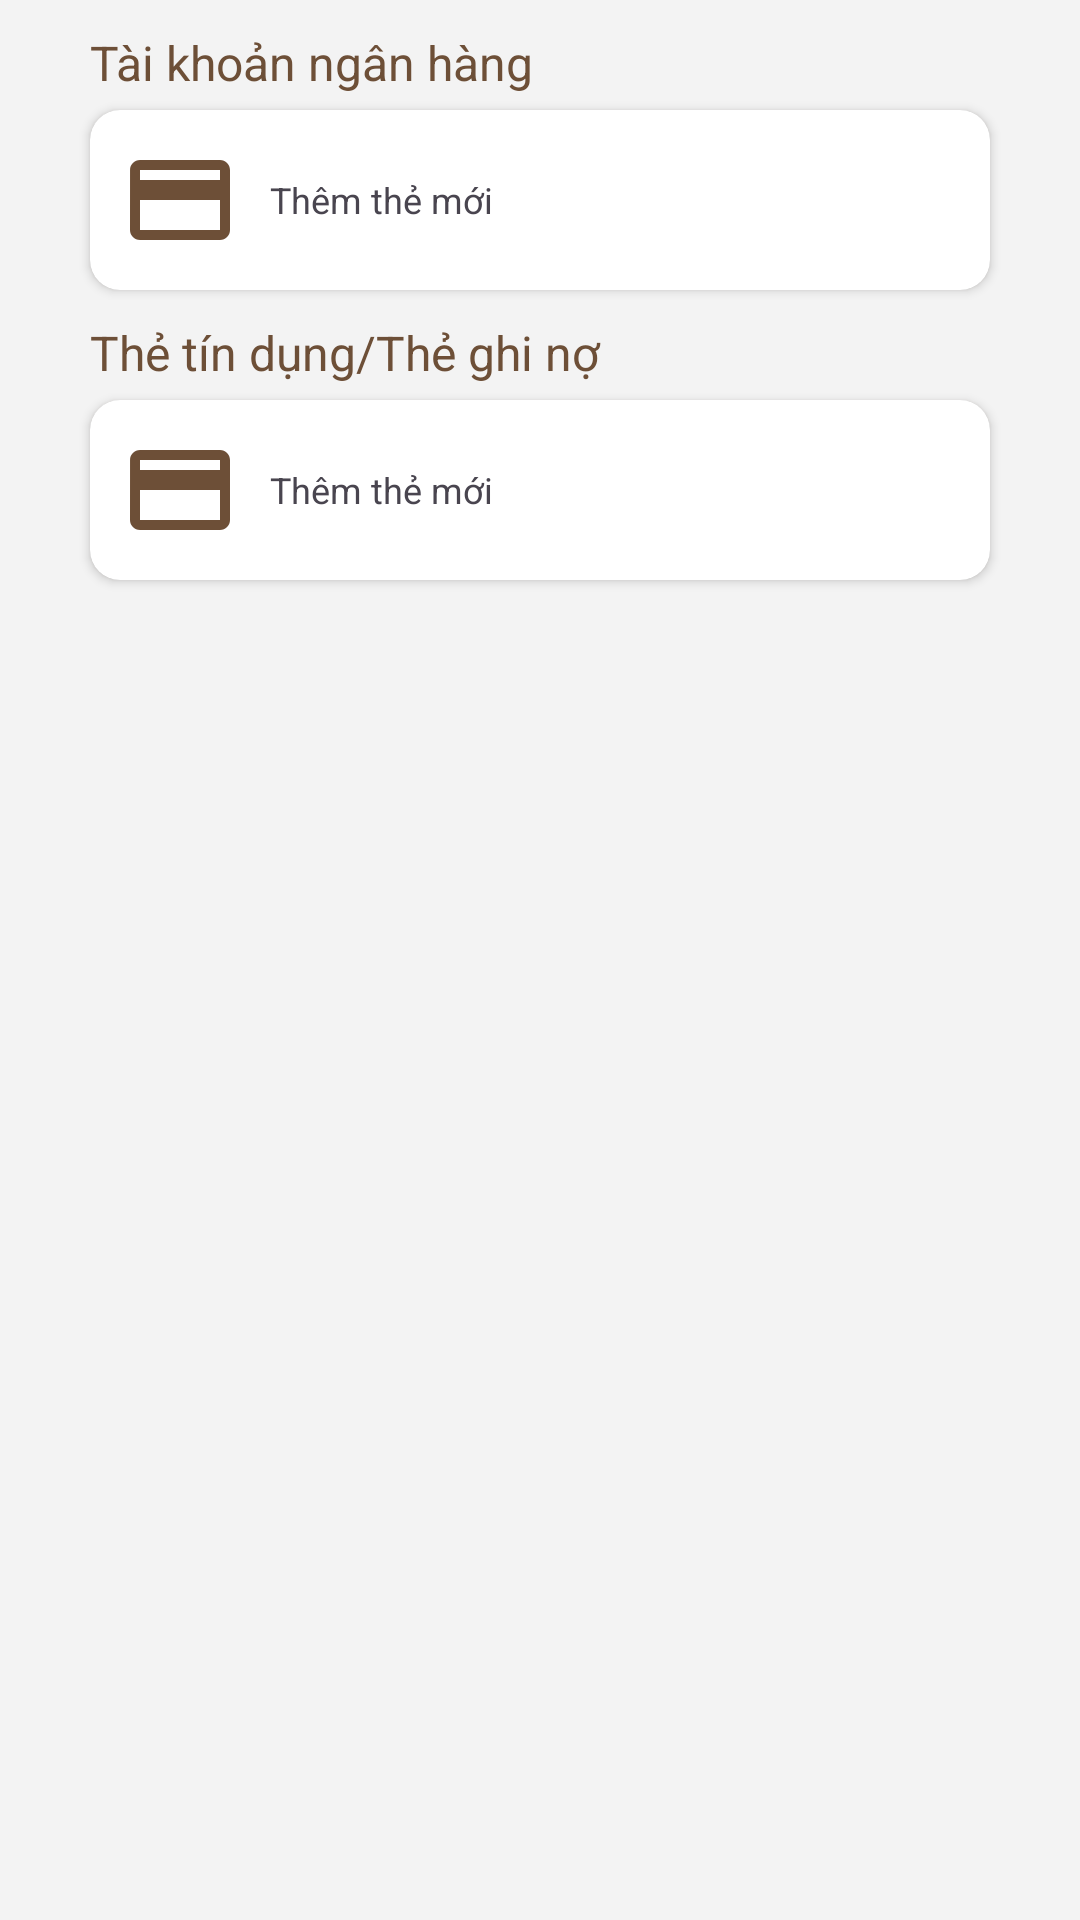

Icon click points for this 1080px x 1920px phone screenshot, format [x,y]:
credit card: [180,200], [180,490]
